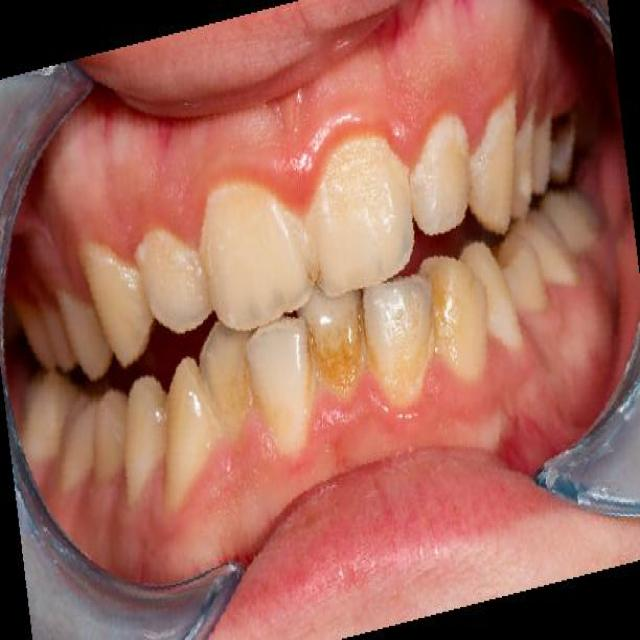caries: (538, 94, 584, 174)
